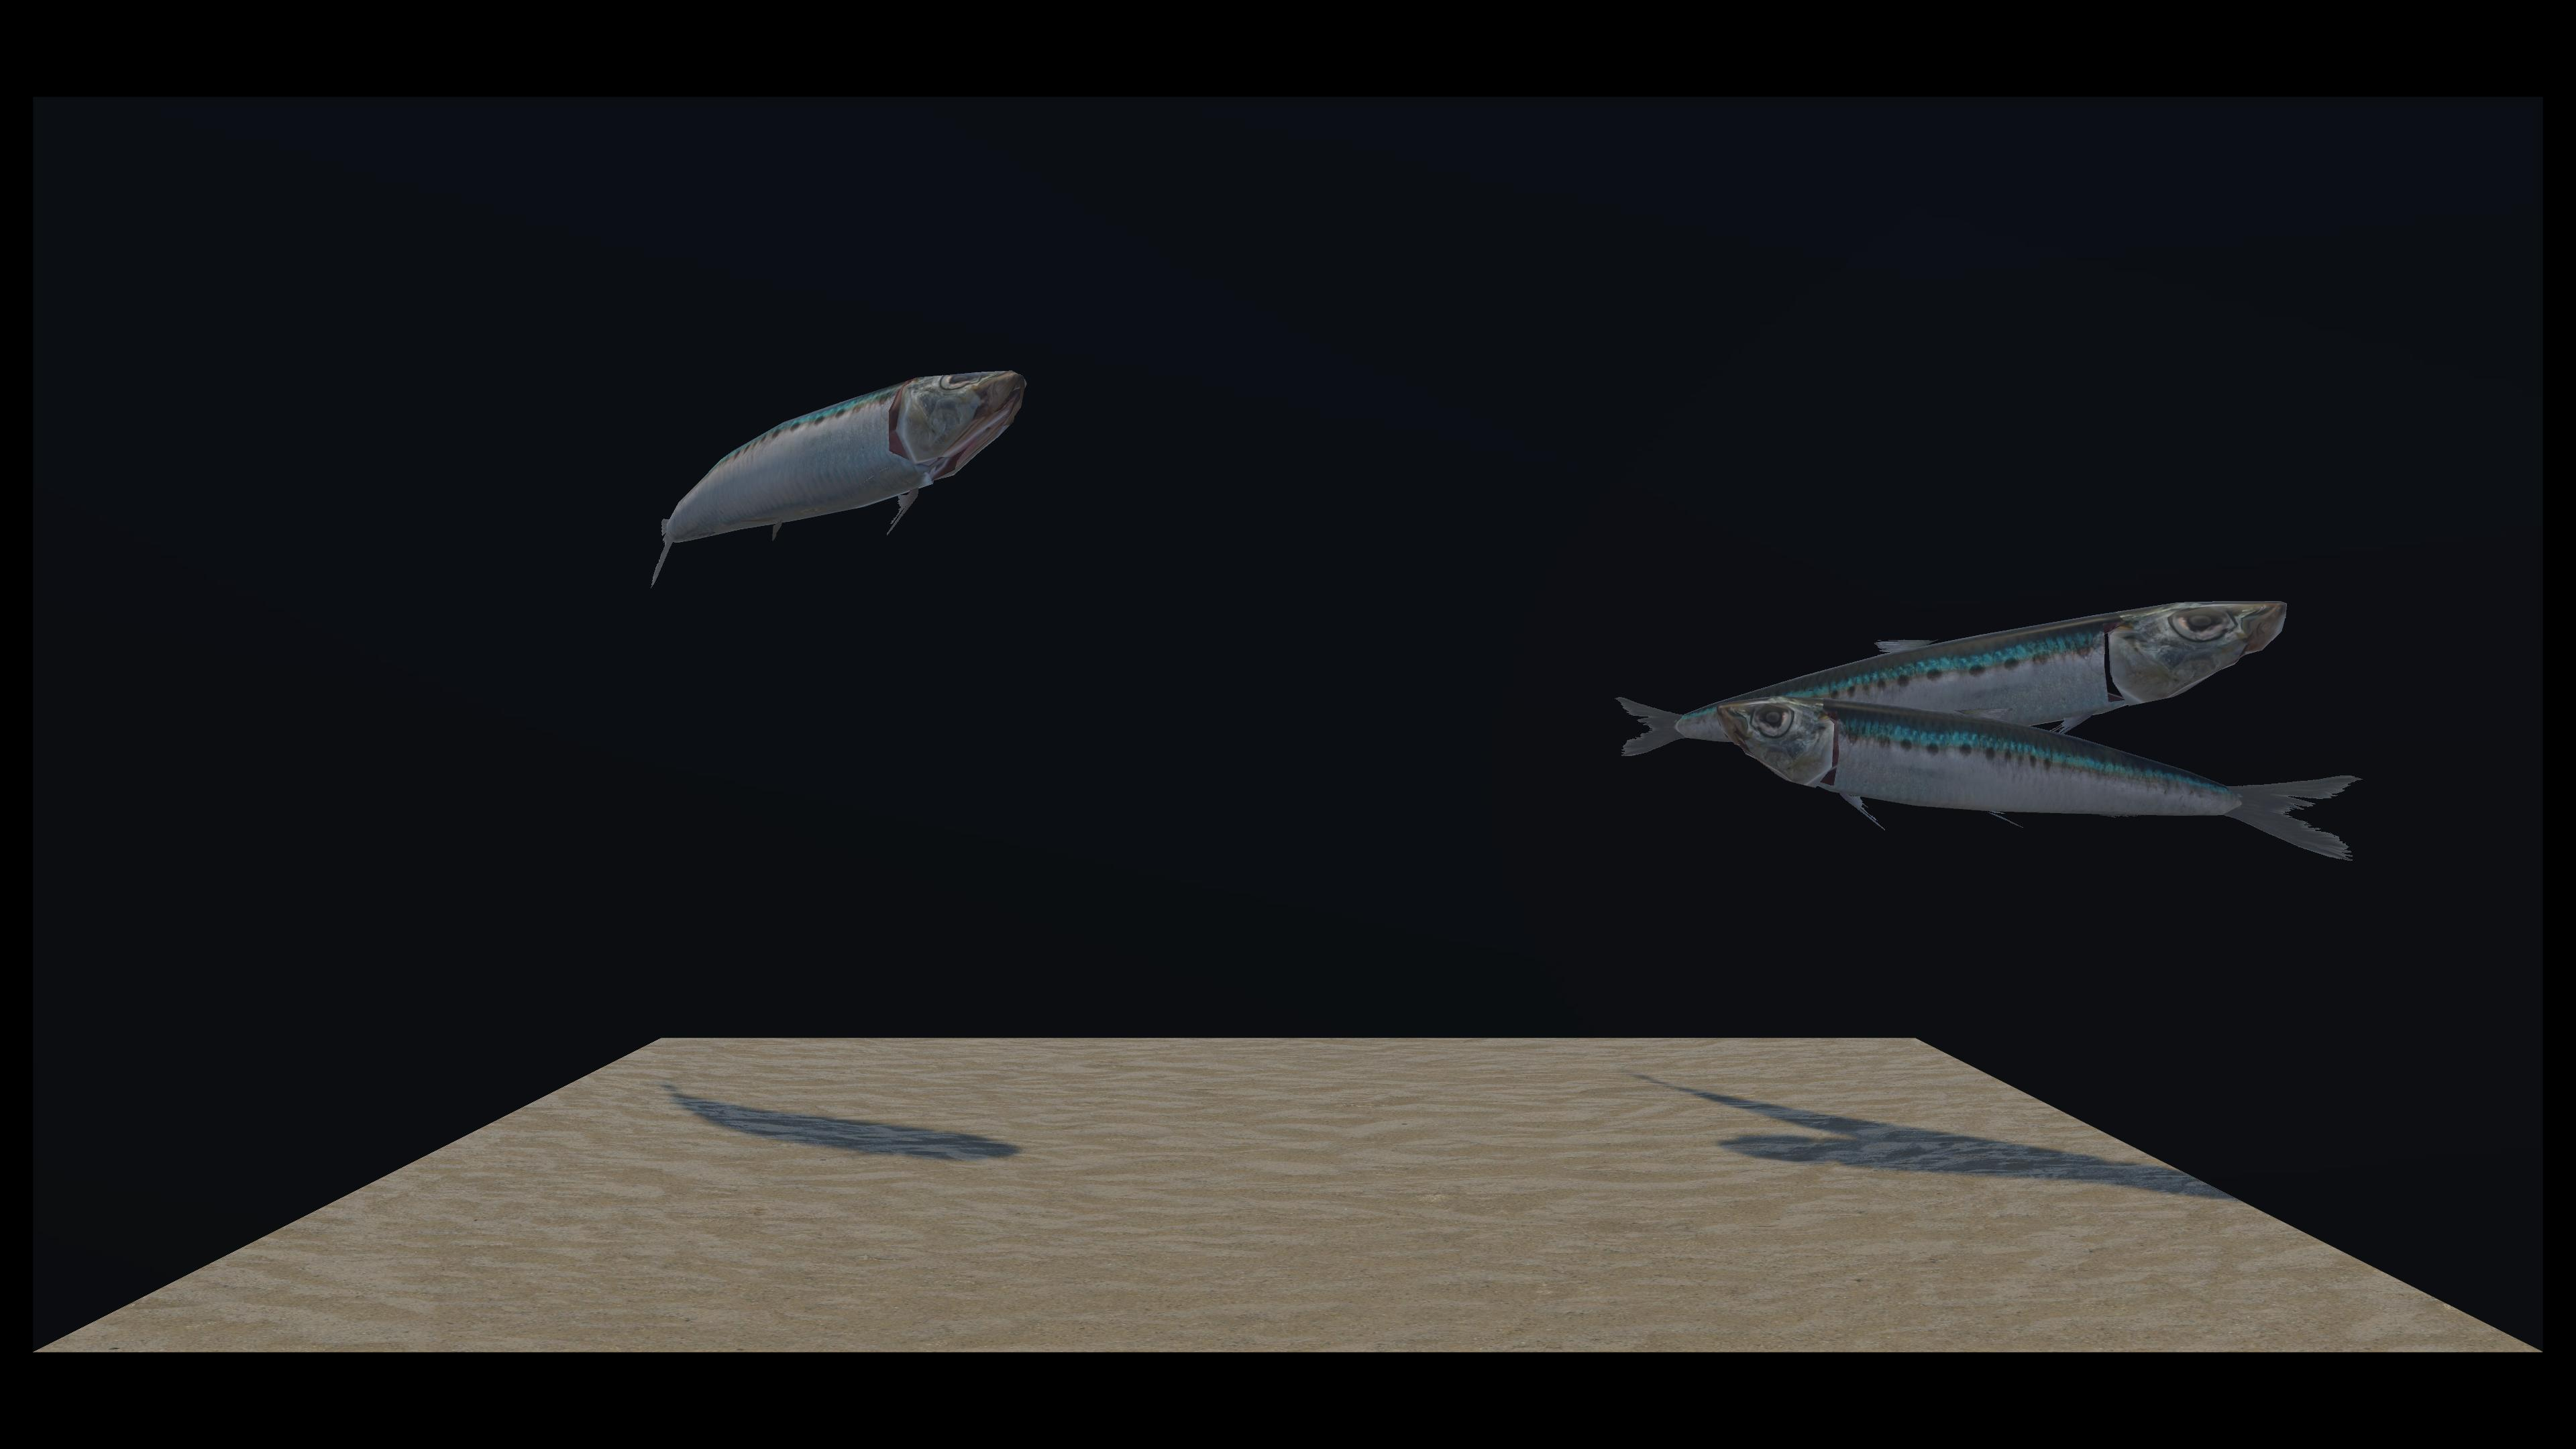Sardine_Front: (869, 380, 2351, 858), (1001, 423, 2277, 759), (648, 375, 1017, 584)
